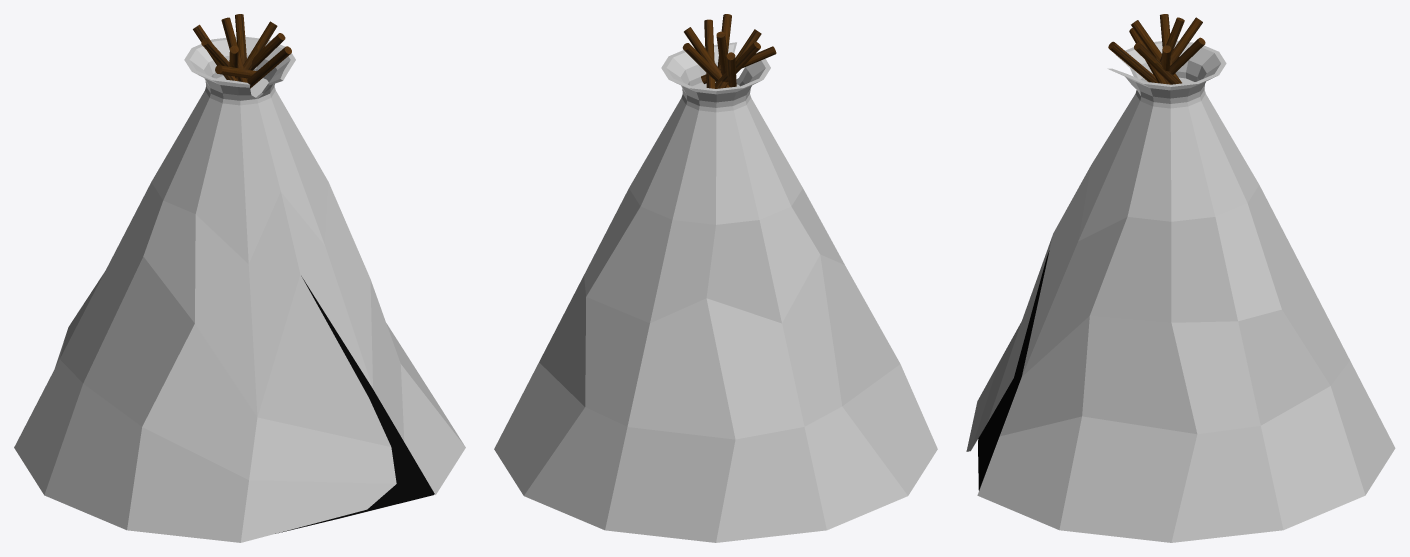
Rendered from Teepee.fbx.
3 renders of one model, left to right at view 1: azimuth 30°, elevation 25°; view 2: azimuth 150°, elevation 25°; view 3: azimuth 270°, elevation 25°, orthographic.
Parts seen in each view (by area): view 1: pCone1, pCone2; view 2: pCone1; view 3: pCone1, pCone2, pasted__pCylinder8, pasted__pCylinder1.
Boxes of the visible parts, x1,y1,x2,y2 form: pCone1: (14, 36, 465, 542); pCone2: (275, 276, 434, 533); pCone1: (494, 42, 937, 542); pCone1: (966, 40, 1395, 542); pCone2: (978, 250, 1049, 490); pasted__pCylinder8: (1108, 41, 1157, 82); pasted__pCylinder1: (1134, 42, 1181, 84).
Size of the model in its own units: 460 by 482 by 440.
